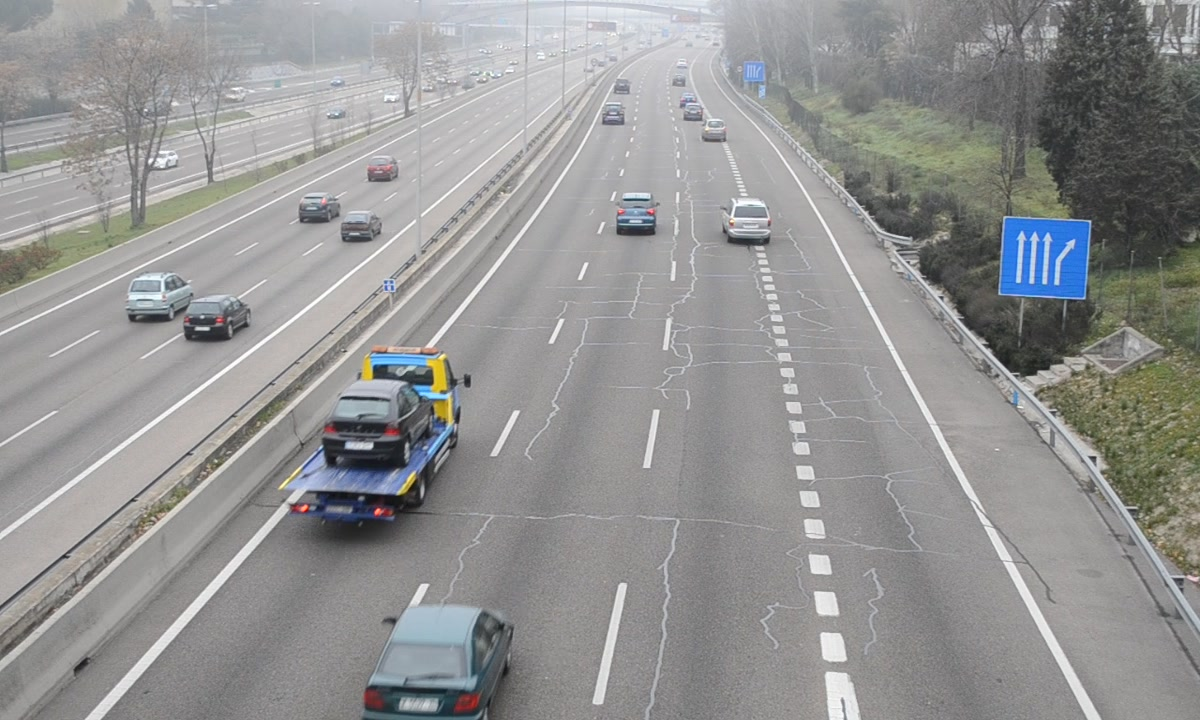car: (364, 606, 513, 717), (725, 197, 772, 242), (615, 191, 656, 233), (701, 118, 726, 143), (601, 99, 623, 124)
small-truck: (281, 348, 461, 520)
